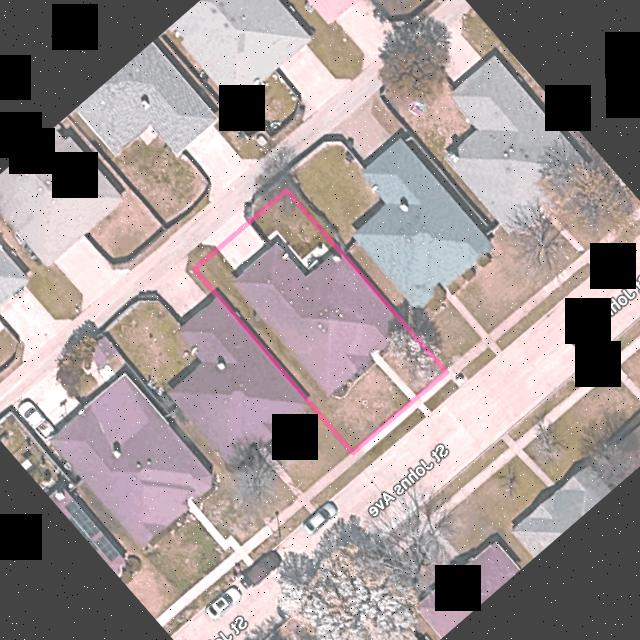Driveway: (221, 226, 270, 274), (371, 350, 416, 399)
Extra Driveway: (201, 206, 246, 246), (413, 399, 432, 417)
Extra Lawn: (357, 407, 427, 469), (245, 175, 286, 222), (423, 378, 460, 412), (188, 243, 216, 267)
Extra Sidewalk: (353, 403, 417, 460), (419, 371, 463, 403)
House: (235, 243, 406, 394)
Other: (301, 244, 334, 272)
Sidewalk: (332, 363, 377, 400), (264, 230, 303, 262)
